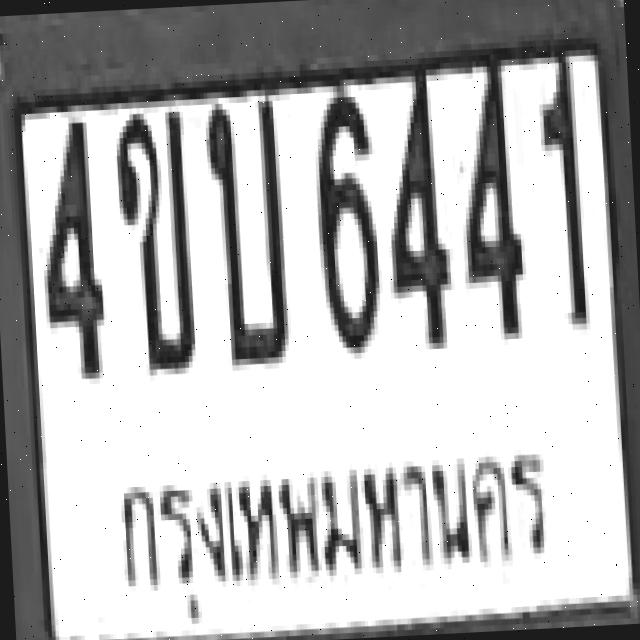1: (536, 56, 586, 325)
11KhorKhai: (111, 106, 193, 371)
35BorBaiMai: (200, 92, 290, 364)
4: (452, 56, 524, 338), (378, 70, 451, 346), (34, 116, 105, 375)
6: (308, 87, 379, 352)
Bangkok: (116, 438, 569, 628)
